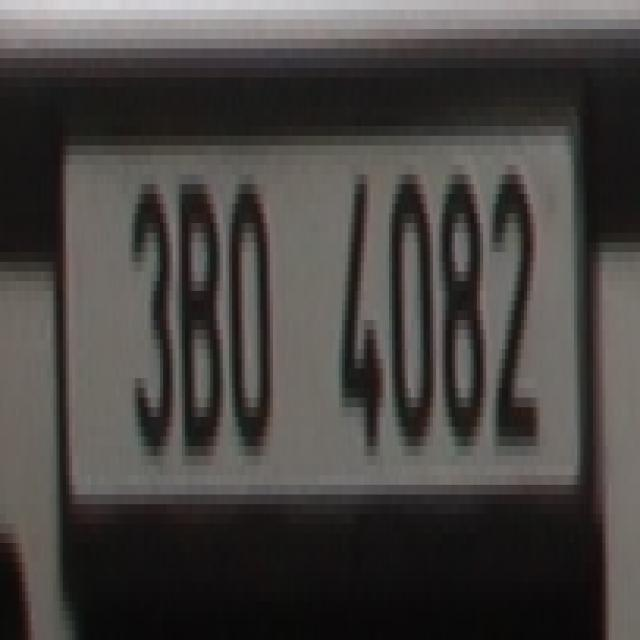0: (226, 165, 276, 436), (389, 165, 436, 446)
2: (492, 165, 542, 446)
3: (128, 165, 170, 446)
4: (336, 165, 382, 446)
8: (436, 165, 483, 446)
B: (178, 165, 220, 436)
